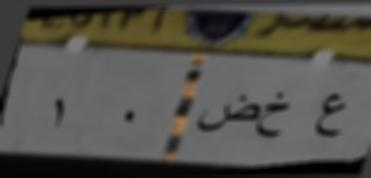0: (113, 105, 144, 130)
1: (46, 89, 72, 138)
ain: (312, 93, 348, 145)
daad: (192, 88, 258, 135)
khaa: (260, 87, 290, 142)
